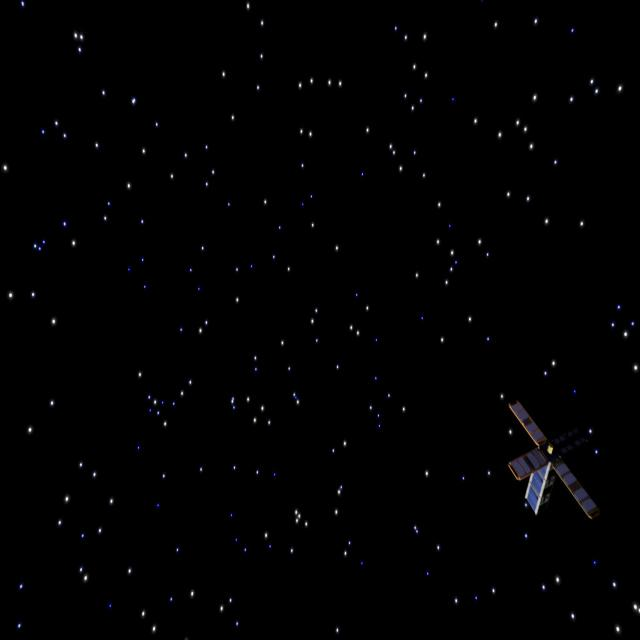satellite: (498, 391, 596, 522)
